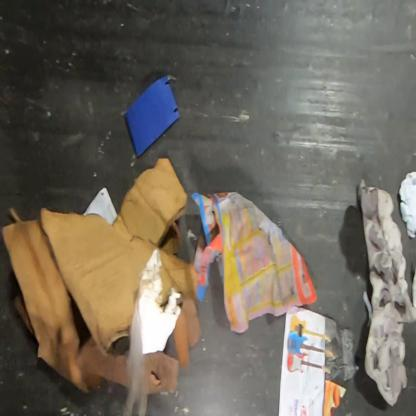cardboard: (0, 157, 203, 396), (124, 74, 180, 158), (142, 350, 180, 396)
